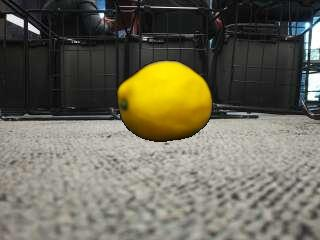lemon: (117, 60, 212, 142)
